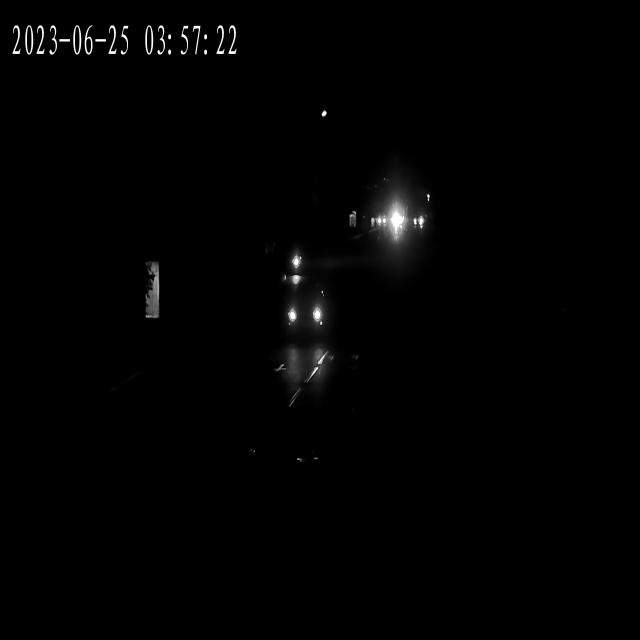Car: (280, 294, 328, 341), (383, 210, 406, 233), (370, 213, 391, 231)
